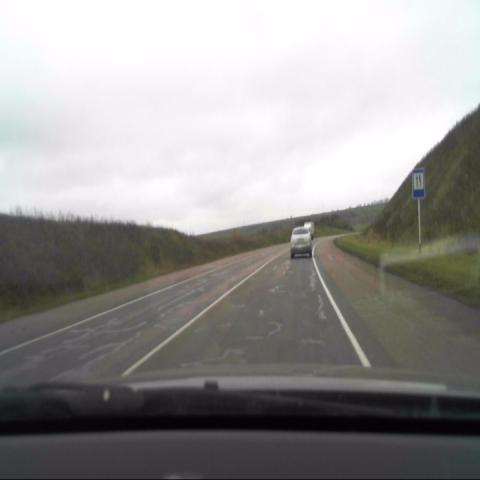7_7: (412, 168, 425, 199)
